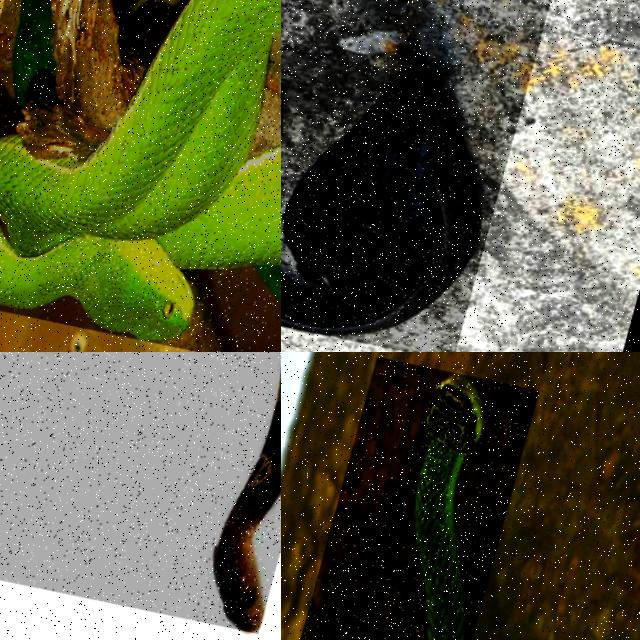Chrysopelea ornata: (414, 373, 483, 639)
Naja kaouthia: (213, 388, 280, 631)
Naja siamensis: (281, 71, 479, 333)
Trimeresurus: (0, 0, 280, 339)
